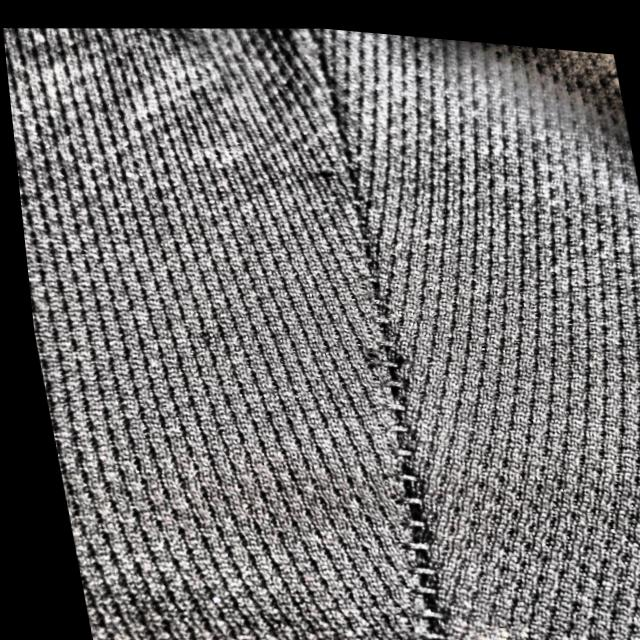Stitch: (343, 337, 464, 640)
